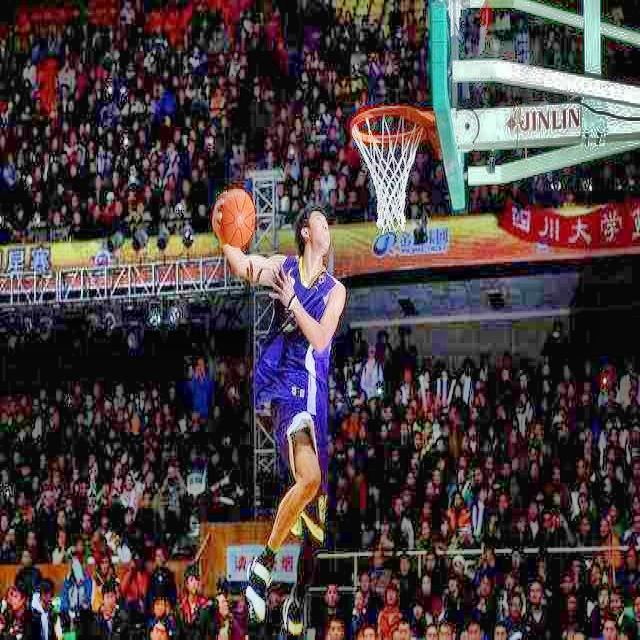board: (222, 192, 256, 249)
rim: (352, 106, 426, 231)
